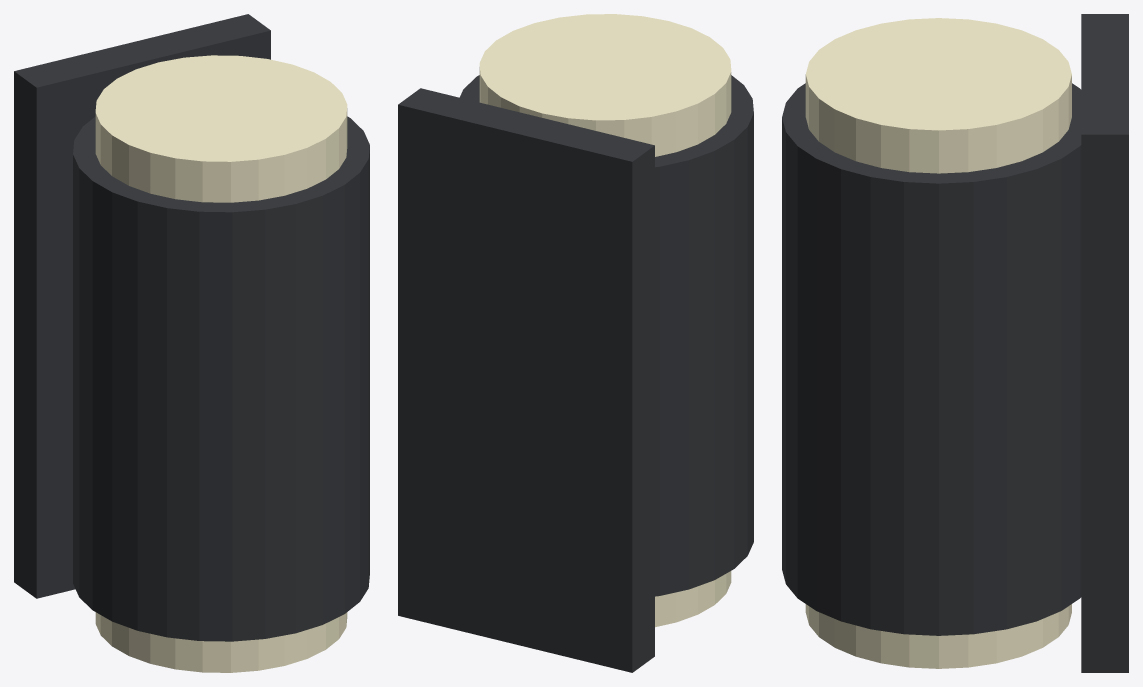
3 renders of one model, left to right at view 1: azimuth 30°, elevation 25°; view 2: azimuth 150°, elevation 25°; view 3: azimuth 270°, elevation 25°, orthographic. The views are drawn at different scales.
Visible parts, largest first — view 1: baseOffset=2.2;depth=0.12;height=0.25;material=luminaire;pow (×2); view 2: baseOffset=2.2;depth=0.12;height=0.25;material=luminaire;pow (×2); view 3: baseOffset=2.2;depth=0.12;height=0.25;material=luminaire;pow (×2).
Part boxes in pixels (x1,y1,x2,y2): baseOffset=2.2;depth=0.12;height=0.25;material=luminaire;pow (×2): [14, 14, 369, 672]; baseOffset=2.2;depth=0.12;height=0.25;material=luminaire;pow (×2): [398, 14, 753, 672]; baseOffset=2.2;depth=0.12;height=0.25;material=luminaire;pow (×2): [782, 14, 1128, 672].
Bounding box in the file's own units: 0.132 × 0.146 × 0.25.
